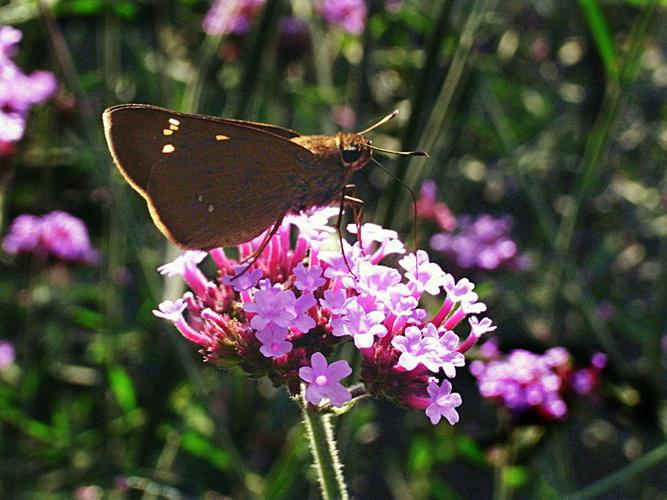Hesperiidae: (100, 98, 433, 279)
